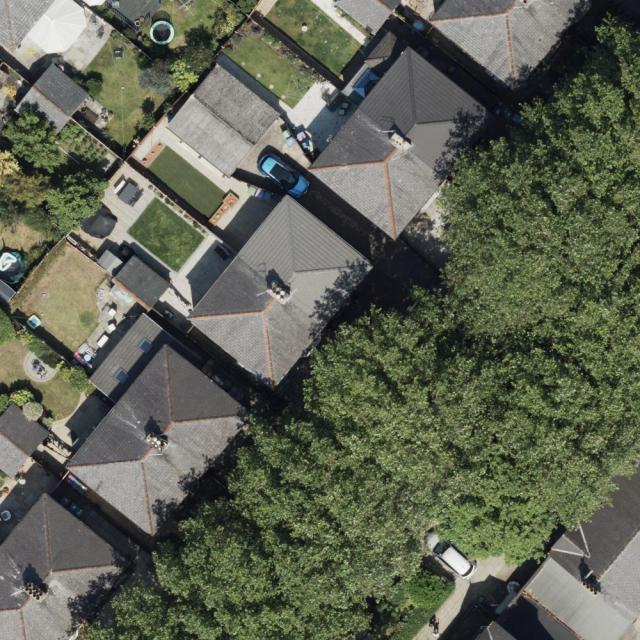roof: (64, 314, 258, 544), (305, 31, 504, 242), (186, 190, 382, 398), (469, 436, 640, 640), (0, 491, 139, 640), (404, 1, 591, 92), (163, 64, 282, 180), (11, 61, 90, 140), (0, 0, 88, 55), (0, 400, 53, 481), (113, 252, 172, 311), (336, 3, 402, 36)
skylight: (350, 68, 385, 101), (108, 365, 133, 388), (135, 332, 156, 357)
